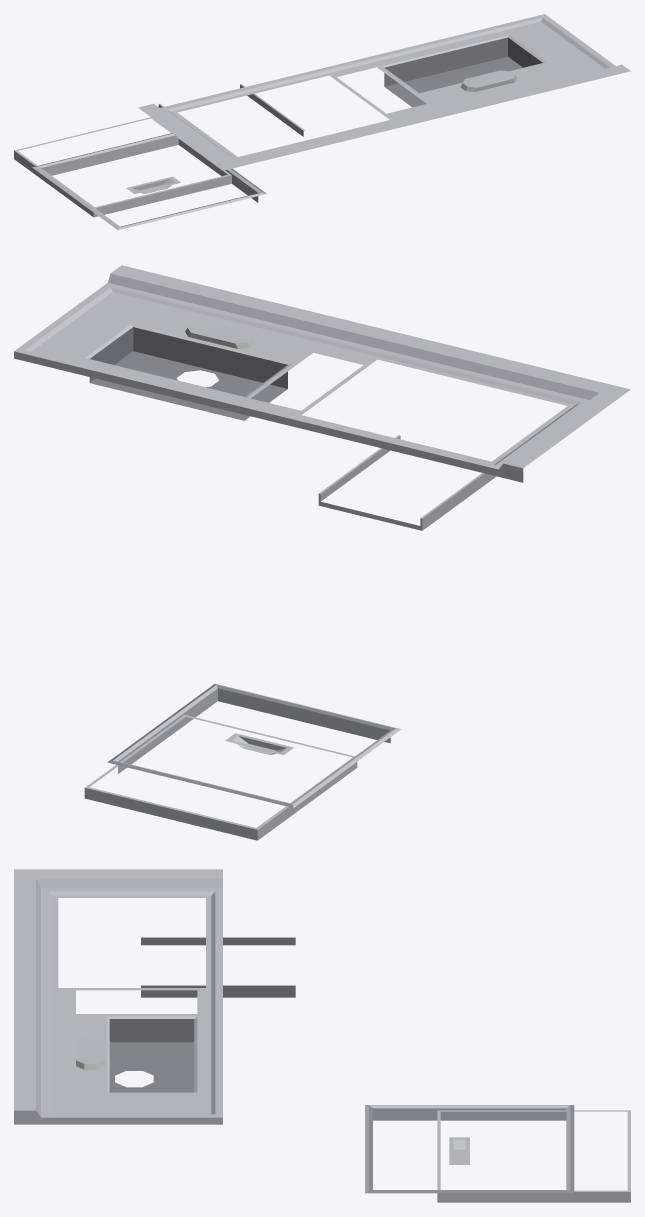
Rendered from kd_stage_135ded_4_40_bounded.glb.
The picture shows the model from 3 angles, top to bottom: view 1: azimuth 30°, elevation 25°; view 2: azimuth 150°, elevation 25°; view 3: azimuth 270°, elevation 25°; orthographic projection. The views are drawn at different scales.
Parts seen in each view (by area): view 1: kd_stage_135ded_4_40_bounded; view 2: kd_stage_135ded_4_40_bounded; view 3: kd_stage_135ded_4_40_bounded.
Part boxes in pixels (left/top/right/bottom): kd_stage_135ded_4_40_bounded: left=14, top=14, right=630, bottom=230; kd_stage_135ded_4_40_bounded: left=14, top=265, right=630, bottom=840; kd_stage_135ded_4_40_bounded: left=14, top=869, right=630, bottom=1202.
Size of the model in its own units: 2.21 by 0.9619 by 2.39.
1 material, 1 textured.
